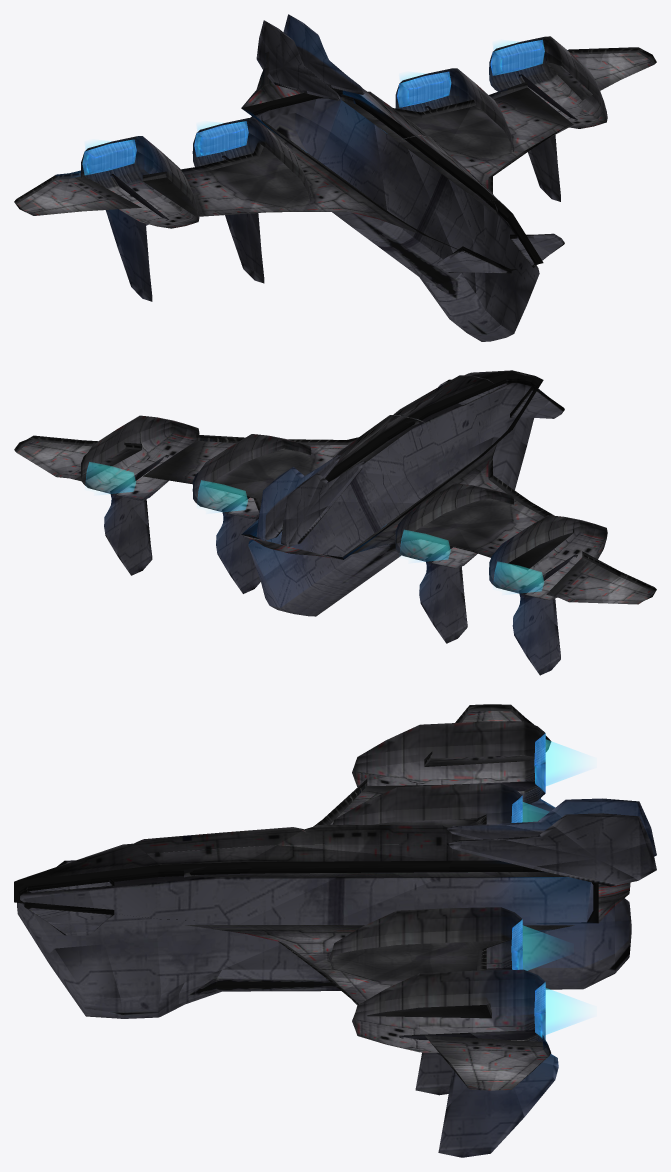
The model's file is goddard.gltf.
The picture shows the model from 3 angles, top to bottom: view 1: azimuth 30°, elevation 25°; view 2: azimuth 150°, elevation 25°; view 3: azimuth 270°, elevation 25°; orthographic projection. The views are drawn at different scales.
Parts seen in each view (by area): view 1: base_glow; view 2: base_glow, glow; view 3: base_glow, glow.
Part boxes in pixels (x1,y1,x2,y2): base_glow: (14,14,656,341); base_glow: (14,370,656,675); glow: (86,462,543,593); base_glow: (14,704,656,1157); glow: (523,739,578,1034).
Size of the model in its own units: 28.84 by 7.93 by 20.32.
Materials: 2 (2 with a texture image).
